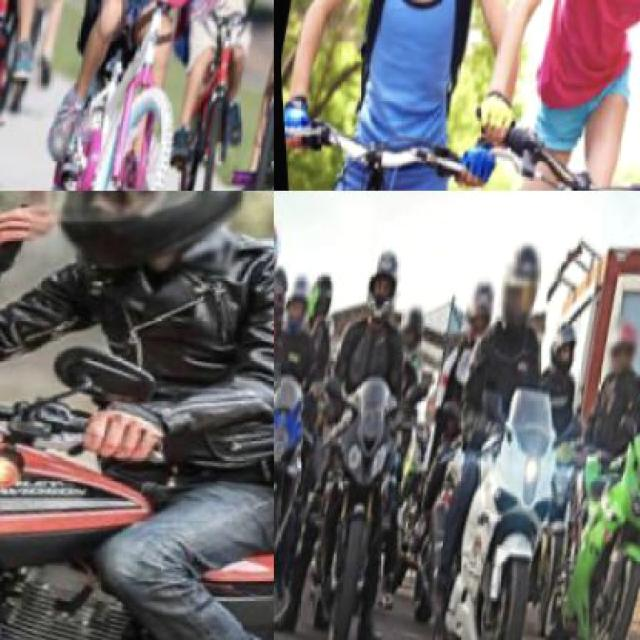With Helmet: (16, 191, 272, 306), (487, 247, 548, 342), (354, 250, 408, 330), (454, 277, 500, 351), (274, 276, 318, 350), (596, 324, 638, 394), (298, 270, 339, 338), (540, 323, 582, 388), (388, 304, 430, 367), (274, 214, 289, 301)
